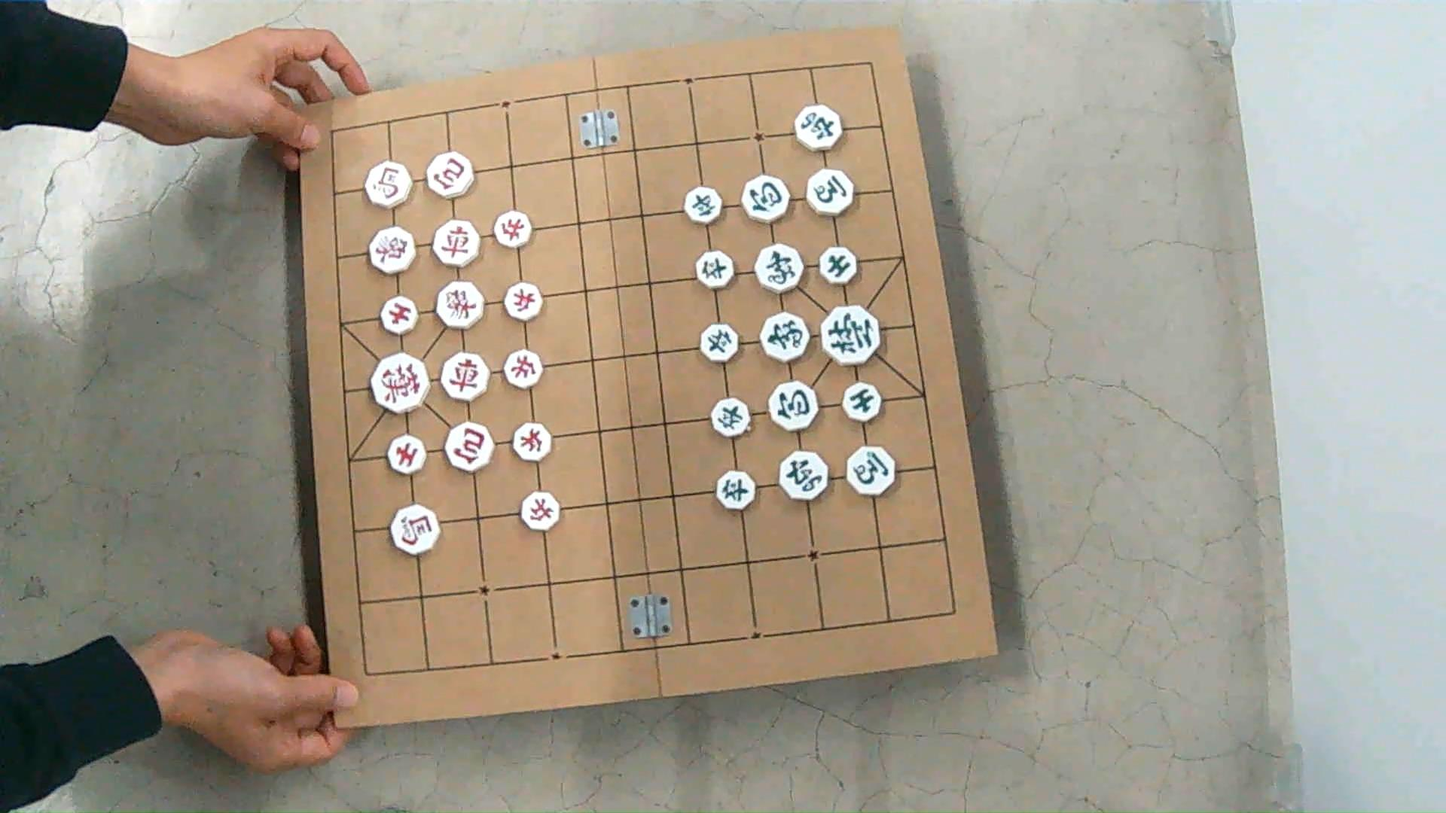cha_green: (779, 451, 828, 501), (795, 105, 841, 151)
cha_red: (441, 352, 489, 400), (432, 220, 479, 266)
jol_green: (715, 471, 755, 510), (712, 398, 750, 437), (700, 324, 738, 362), (696, 251, 734, 288), (684, 187, 721, 224)
jol_red: (521, 492, 560, 531), (513, 422, 551, 461), (503, 350, 541, 389), (504, 282, 541, 320), (494, 211, 531, 248)
ma_green: (847, 446, 895, 495), (807, 169, 853, 216)
ma_red: (392, 505, 440, 555), (366, 161, 410, 208)
po_green: (770, 381, 818, 431), (743, 175, 789, 222)
po_red: (446, 422, 493, 471), (427, 152, 474, 198)
sa_green: (843, 382, 880, 422), (819, 247, 856, 285)
sa_red: (388, 435, 426, 474), (380, 296, 418, 335)
sang_green: (761, 312, 810, 362), (755, 244, 803, 292)
sang_red: (436, 282, 484, 328), (370, 227, 415, 274)
wang_green: (822, 305, 880, 365)
wang_red: (371, 353, 429, 412)
